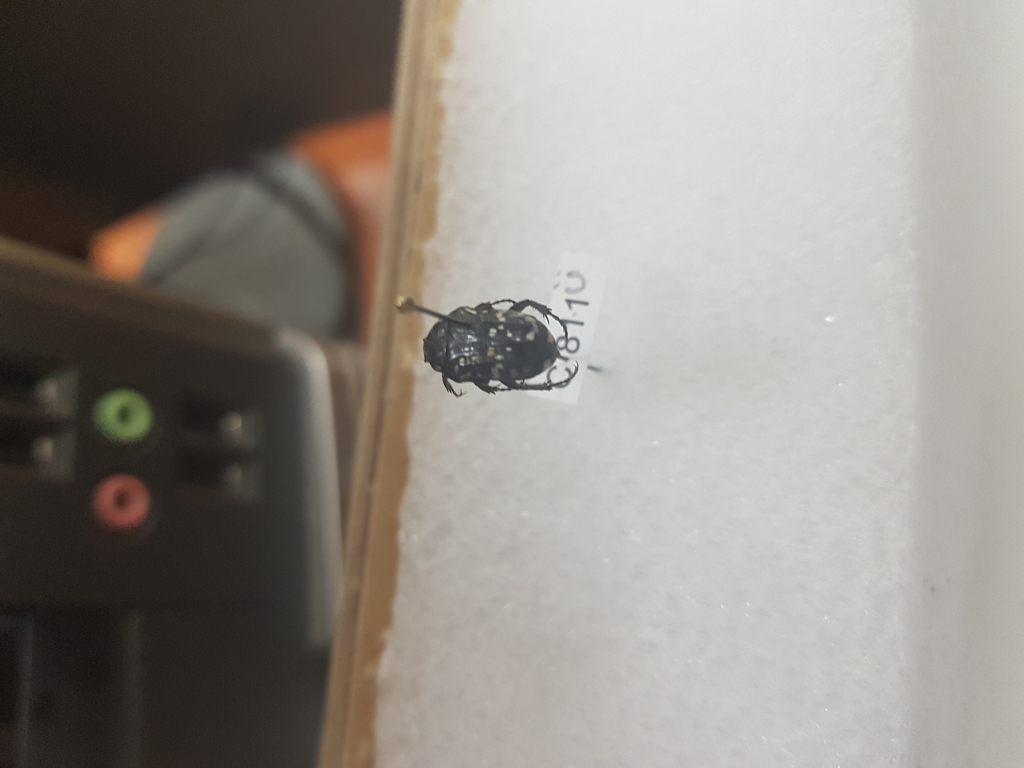Oxythyrea_albopicta: (415, 294, 573, 397)
